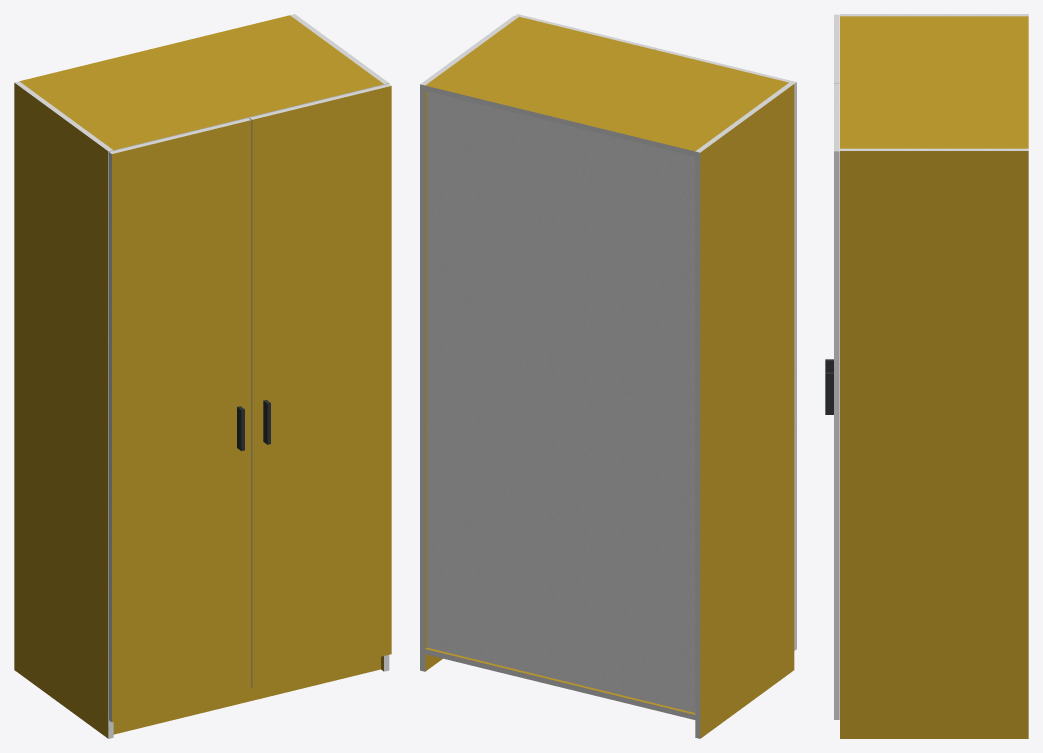
The model's file is FET-WRD-single.glb.
The picture shows the model from 3 angles, left to right: view 1: azimuth 30°, elevation 25°; view 2: azimuth 150°, elevation 25°; view 3: azimuth 270°, elevation 25°; orthographic projection.
Visible parts, largest first — view 1: door-r:pbr, door-l:pbr, side-l:pbr, top:pbr, plinth:pbr, door-l:sheet:eyJtIjoibWRmIiwic2lkZSI6ImVkZ2UtbG9uZyIsInNlZWQ, door-r:sheet:eyJtIjoibWRmIiwic2lkZSI6ImVkZ2UtbG9uZyIsInNlZWQ, pull, side-l:sheet:eyJtIjoibWRmIiwic2lkZSI6ImVkZ2UtbG9uZyIsInNlZWQ; view 2: back:sheet:eyJtIjoibWRmIiwic2lkZSI6ImZhY2UiLCJzZWVkIjoxLCJ0a, side-l:pbr, top:pbr, side-l:sheet:eyJtIjoibWRmIiwic2lkZSI6ImVkZ2UtbG9uZyIsInNlZWQ, side-r:sheet:eyJtIjoibWRmIiwic2lkZSI6ImVkZ2UtbG9uZyIsInNlZWQ, door-l:sheet:eyJtIjoibWRmIiwic2lkZSI6ImVkZ2UtbG9uZyIsInNlZWQ, bottom:sheet:eyJtIjoibWRmIiwic2lkZSI6ImVkZ2UtbG9uZyIsInNlZWQ, top:sheet:eyJtIjoibWRmIiwic2lkZSI6ImVkZ2UtbG9uZyIsInNlZWQiOj, side-r:pbr, bottom:pbr; view 3: side-r:pbr, top:pbr, door-r:sheet:eyJtIjoibWRmIiwic2lkZSI6ImVkZ2UtbG9uZyIsInNlZWQ, side-l:sheet:eyJtIjoibWRmIiwic2lkZSI6ImVkZ2UtZW5kIiwic2VlZCI, side-r:sheet:eyJtIjoibWRmIiwic2lkZSI6ImVkZ2UtZW5kIiwic2VlZCI, pull, door-l:sheet:eyJtIjoibWRmIiwic2lkZSI6ImVkZ2UtZW5kIiwic2VlZCI, door-r:sheet:eyJtIjoibWRmIiwic2lkZSI6ImVkZ2UtZW5kIiwic2VlZCI.
Boxes of the visible parts, box(x1,y1,x2,y2) form: door-r:pbr: box(252, 86, 391, 687); door-l:pbr: box(112, 120, 251, 722); side-l:pbr: box(14, 83, 108, 738); top:pbr: box(19, 15, 383, 150); plinth:pbr: box(113, 657, 380, 734); door-l:sheet:eyJtIjoibWRmIiwic2lkZSI6ImVkZ2UtbG9uZyIsInNlZWQ: box(109, 152, 111, 721); door-r:sheet:eyJtIjoibWRmIiwic2lkZSI6ImVkZ2UtbG9uZyIsInNlZWQ: box(249, 118, 252, 687); pull: box(237, 400, 270, 451); side-l:sheet:eyJtIjoibWRmIiwic2lkZSI6ImVkZ2UtbG9uZyIsInNlZWQ: box(108, 150, 113, 738); back:sheet:eyJtIjoibWRmIiwic2lkZSI6ImZhY2UiLCJzZWVkIjoxLCJ0a: box(427, 91, 695, 712); side-l:pbr: box(700, 84, 794, 738); top:pbr: box(425, 16, 788, 151); side-l:sheet:eyJtIjoibWRmIiwic2lkZSI6ImVkZ2UtbG9uZyIsInNlZWQ: box(695, 151, 700, 738); side-r:sheet:eyJtIjoibWRmIiwic2lkZSI6ImVkZ2UtbG9uZyIsInNlZWQ: box(420, 84, 425, 671); door-l:sheet:eyJtIjoibWRmIiwic2lkZSI6ImVkZ2UtbG9uZyIsInNlZWQ: box(794, 82, 796, 650); bottom:sheet:eyJtIjoibWRmIiwic2lkZSI6ImVkZ2UtbG9uZyIsInNlZWQ: box(425, 649, 695, 719); top:sheet:eyJtIjoibWRmIiwic2lkZSI6ImVkZ2UtbG9uZyIsInNlZWQiOj: box(425, 85, 695, 156); side-r:pbr: box(425, 91, 442, 671); bottom:pbr: box(425, 647, 695, 714); side-r:pbr: box(840, 151, 1028, 738); top:pbr: box(840, 16, 1028, 148); door-r:sheet:eyJtIjoibWRmIiwic2lkZSI6ImVkZ2UtbG9uZyIsInNlZWQ: box(834, 151, 839, 719); side-l:sheet:eyJtIjoibWRmIiwic2lkZSI6ImVkZ2UtZW5kIiwic2VlZCI: box(840, 14, 1028, 16); side-r:sheet:eyJtIjoibWRmIiwic2lkZSI6ImVkZ2UtZW5kIiwic2VlZCI: box(840, 148, 1028, 150); pull: box(825, 359, 833, 414); door-l:sheet:eyJtIjoibWRmIiwic2lkZSI6ImVkZ2UtZW5kIiwic2VlZCI: box(834, 14, 839, 82); door-r:sheet:eyJtIjoibWRmIiwic2lkZSI6ImVkZ2UtZW5kIiwic2VlZCI: box(834, 83, 839, 151).
Size of the model in its own units: 1 by 2 by 0.6271.
Materials: 34 (23 with a texture image).
